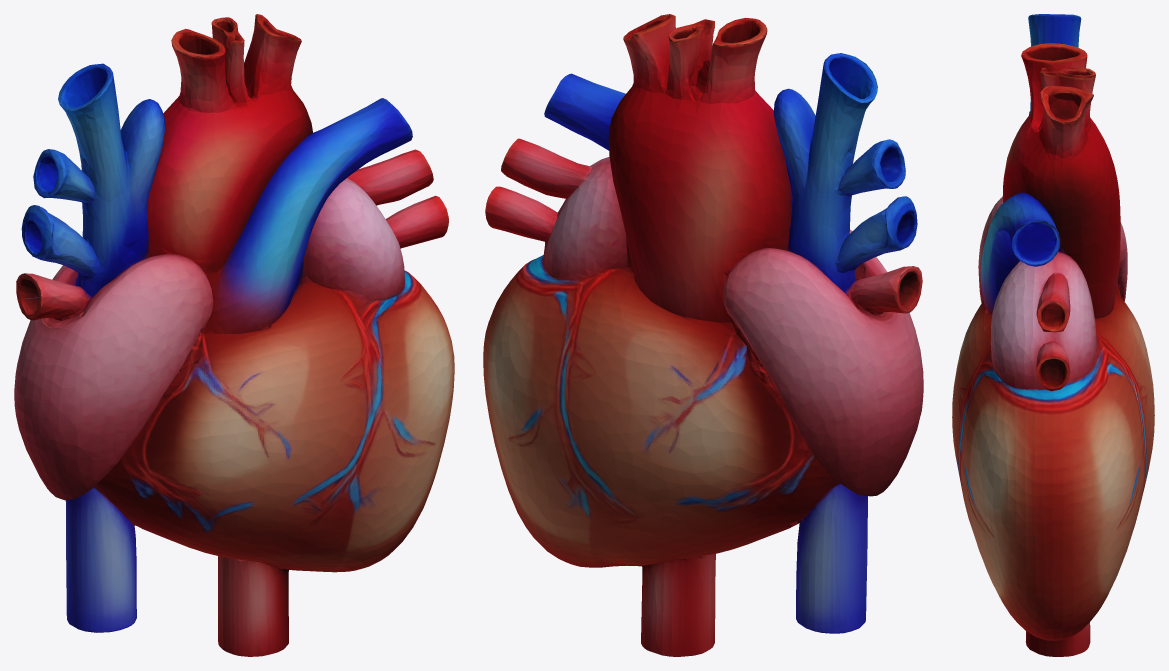
The model's file is heart.glb.
3 views of the same model, side by side, from view 1: azimuth 30°, elevation 25°; view 2: azimuth 150°, elevation 25°; view 3: azimuth 270°, elevation 25° (orthographic). The views are drawn at different scales.
Visible parts, largest first — view 1: world; view 2: world; view 3: world.
Boxes of the visible parts, box(x1,y1,x2,y2) form: world: box(14, 14, 454, 656); world: box(483, 14, 923, 656); world: box(952, 14, 1154, 656).
Size of the model in its own units: 0.7158 by 0.9994 by 0.3251.
1 material, 1 textured.
